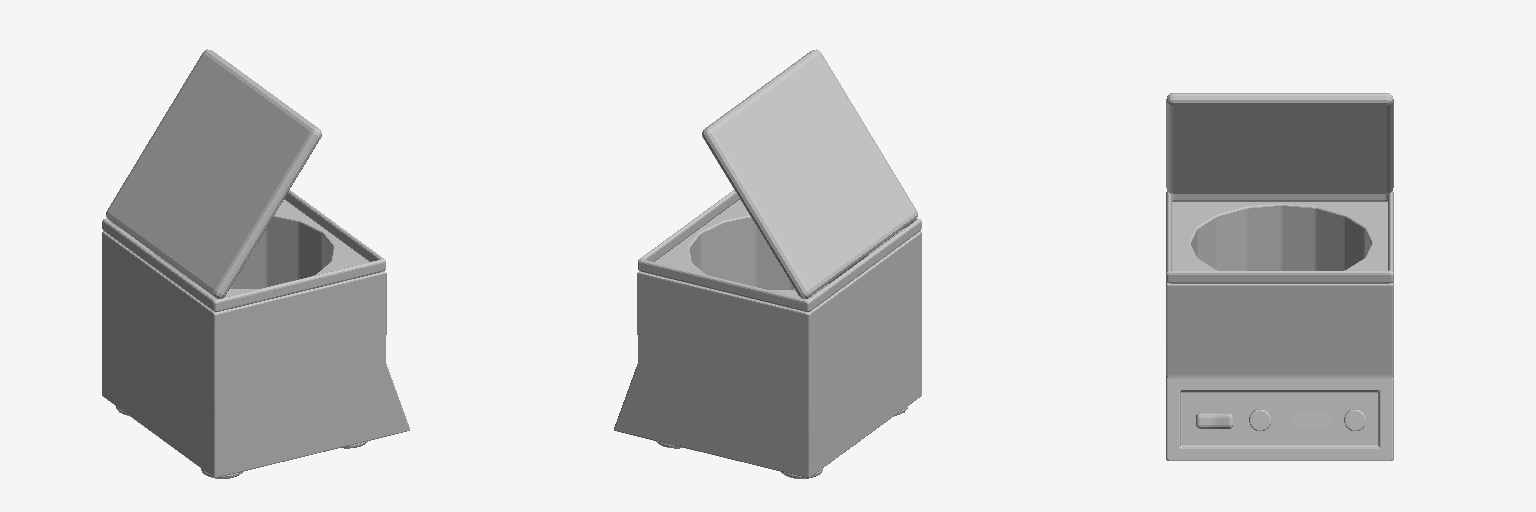
Rendered from centrifuge_open.obj.
The picture shows the model from 3 angles: view 1: azimuth 30°, elevation 25°; view 2: azimuth 150°, elevation 25°; view 3: azimuth 270°, elevation 25°; orthographic projection.
Parts seen in each view (by area): view 1: corpo_Cube, tampa_aberta_Cube.005, base_tampa_Cube.008; view 2: corpo_Cube, tampa_aberta_Cube.005, base_tampa_Cube.008; view 3: corpo_Cube, tampa_aberta_Cube.005, base_tampa_Cube.008, painelzinho_Cube.004, switch_Cube.003.
Part boxes in pixels (bbox=[...]): corpo_Cube: bbox=[102, 200, 409, 477]; tampa_aberta_Cube.005: bbox=[106, 49, 321, 298]; base_tampa_Cube.008: bbox=[102, 190, 385, 311]; corpo_Cube: bbox=[614, 200, 921, 477]; tampa_aberta_Cube.005: bbox=[702, 49, 917, 298]; base_tampa_Cube.008: bbox=[638, 190, 921, 311]; corpo_Cube: bbox=[1166, 202, 1393, 460]; tampa_aberta_Cube.005: bbox=[1166, 93, 1393, 193]; base_tampa_Cube.008: bbox=[1166, 191, 1393, 283]; painelzinho_Cube.004: bbox=[1293, 413, 1329, 428]; switch_Cube.003: bbox=[1196, 413, 1232, 428].
Bounding box in the file's own units: 1 × 1.61 × 1.